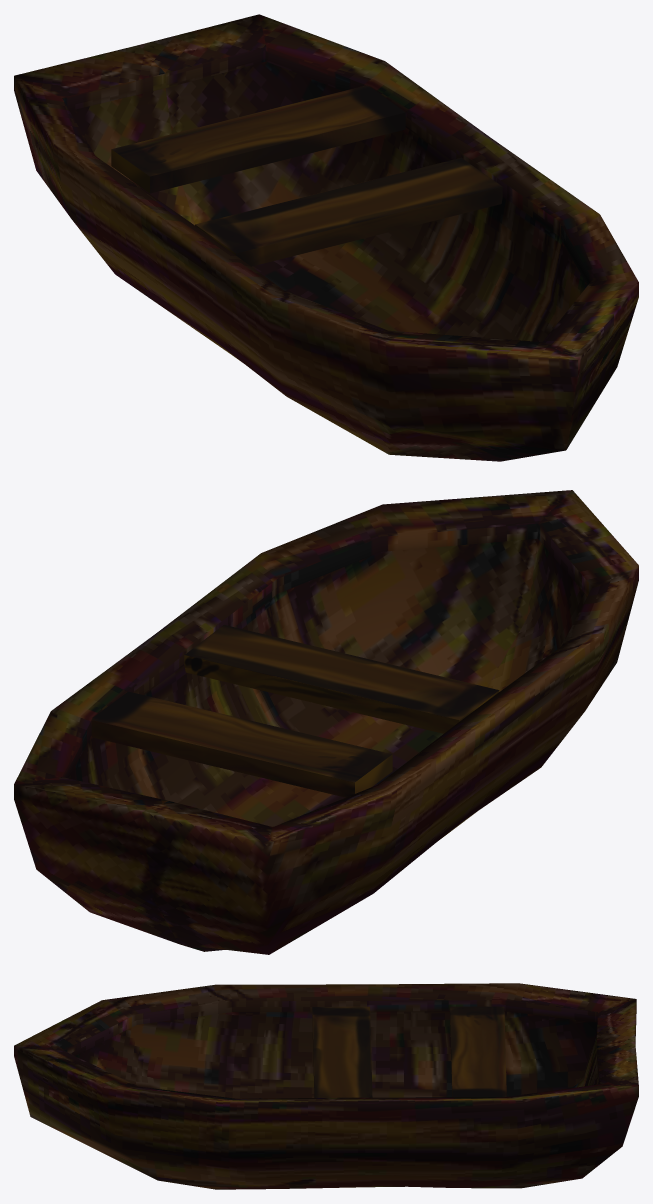
File: SM_Boat_02_with_seats.fbx
The picture shows the model from 3 angles, top to bottom: view 1: azimuth 30°, elevation 25°; view 2: azimuth 150°, elevation 25°; view 3: azimuth 270°, elevation 25°; orthographic projection. The views are drawn at different scales.
Parts seen in each view (by area): view 1: boat, seats; view 2: boat, seats; view 3: boat, seats.
Boxes of the visible parts, box(x1,y1,x2,y2) form: boat: box(14, 14, 638, 461); seats: box(111, 85, 502, 266); boat: box(14, 490, 638, 954); seats: box(91, 625, 499, 797); boat: box(14, 983, 638, 1189); seats: box(312, 1006, 506, 1097).
Size of the model in its own units: 171 by 90.14 by 380.
2 materials, 2 textured.
